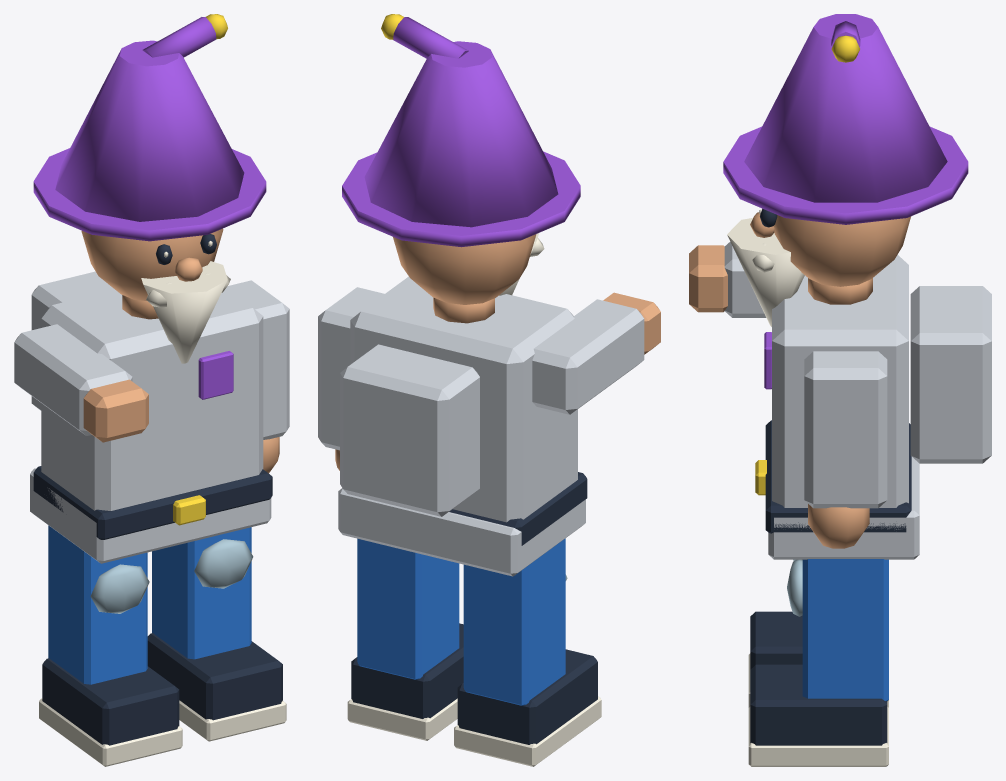
Rendered from fps_char_4.glb.
3 views of the same model, side by side, from view 1: azimuth 30°, elevation 25°; view 2: azimuth 150°, elevation 25°; view 3: azimuth 270°, elevation 25° (orthographic). The views are drawn at different scales.
Visible parts, largest first — view 1: detail_Paint, detail_Grape, detail_Ink navy, detail_Blueberry, detail_Vanilla plastic, head_core, detail_Toy silver, right_hand, detail_Warm vinyl, detail_Lemon; view 2: detail_Paint, detail_Grape, detail_Blueberry, detail_Ink navy, head_core, detail_Vanilla plastic, detail_Warm vinyl, right_hand; view 3: detail_Paint, detail_Grape, detail_Ink navy, detail_Blueberry, detail_Vanilla plastic, head_core, detail_Warm vinyl, right_hand, detail_Lemon, detail_Toy silver.
Boxes of the visible parts, box(x1,y1,x2,y2) form: detail_Paint: box(14, 271, 289, 563); detail_Grape: box(33, 17, 266, 399); detail_Ink navy: box(33, 234, 282, 745); detail_Blueberry: box(48, 525, 251, 684); detail_Vanilla plastic: box(39, 241, 286, 766); head_core: box(81, 228, 223, 300); detail_Toy silver: box(90, 539, 253, 613); right_hand: box(83, 379, 148, 442); detail_Warm vinyl: box(122, 257, 279, 473); detail_Lemon: box(173, 14, 227, 525); detail_Paint: box(318, 276, 644, 576); detail_Grape: box(342, 17, 580, 247); detail_Blueberry: box(357, 538, 565, 705); detail_Ink navy: box(351, 472, 597, 744); head_core: box(393, 234, 536, 304); detail_Vanilla plastic: box(347, 233, 601, 766); detail_Warm vinyl: box(335, 297, 494, 470); right_hand: box(603, 292, 660, 354); detail_Paint: box(724, 241, 991, 559); detail_Grape: box(723, 14, 968, 389); detail_Ink navy: box(750, 208, 911, 745); detail_Blueberry: box(802, 559, 888, 701); detail_Vanilla plastic: box(727, 209, 888, 766); head_core: box(774, 215, 910, 286); detail_Warm vinyl: box(750, 212, 872, 548); right_hand: box(689, 245, 727, 312); detail_Lemon: box(755, 35, 859, 495); detail_Toy silver: box(787, 559, 802, 616).
Bounding box in the file's own units: 0.84 × 2.2 × 0.84.
